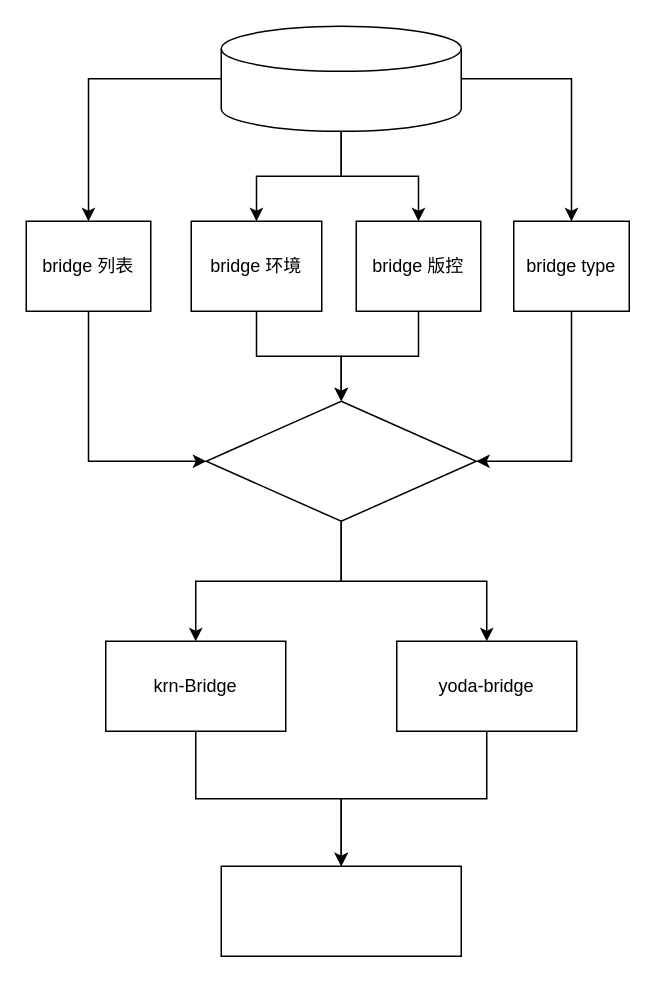
This 656x983 diagram has some shape labels left out. The shapes that lost their labels are listed below. From the top down, each one's centre as x and y in pixels, then its label:
At (340,78): "bridge-center".
At (340,460): "generator".
At (340,910): "@kibt/bridge".
